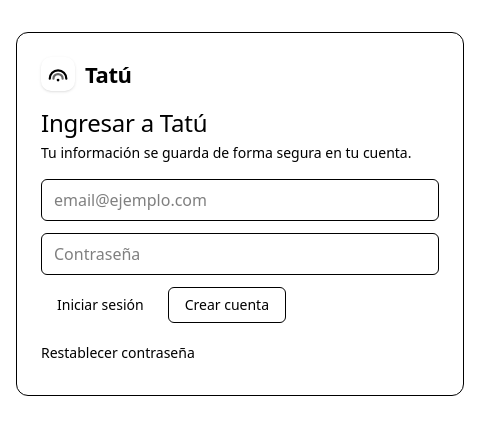
Test: App with supabase enabled › keeps "Restablecer contraseña" enabled and explains it needs the email (#204)
Click the button "Restablecer contraseña".
click(118, 353)  # box [41,335,195,371]
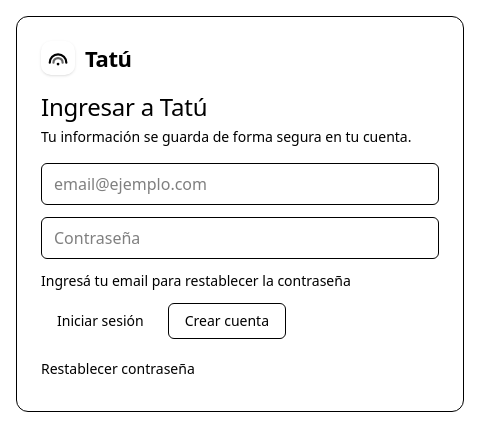
Now the text "Ingresá tu email para restablecer la contraseña" is shown, box [41,271,351,290]
